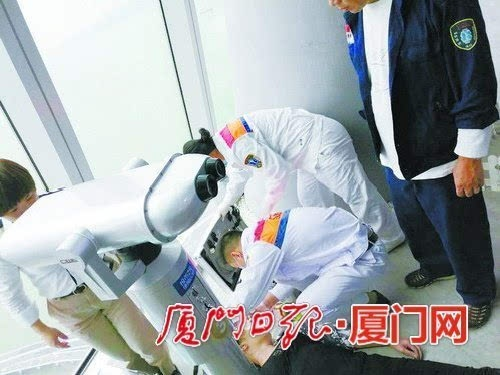falling: (198, 278, 500, 373)
